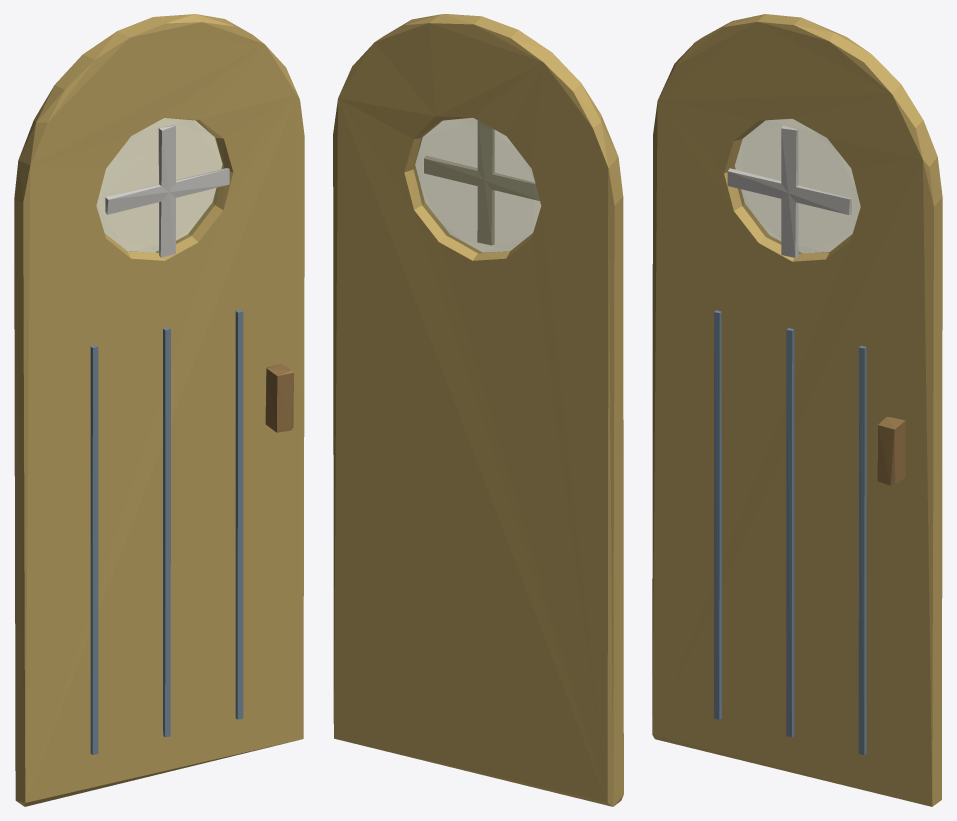
Rendered from SM_Kit_Door_Cottage_LOD2.glb.
3 renders of one model, left to right at view 1: azimuth 30°, elevation 25°; view 2: azimuth 150°, elevation 25°; view 3: azimuth 330°, elevation 25°, orthographic.
Parts seen in each view (by area): view 1: SM_Kit_Door_Cottage_LOD2; view 2: SM_Kit_Door_Cottage_LOD2; view 3: SM_Kit_Door_Cottage_LOD2.
Boxes of the visible parts, left/top/right/bottom form: SM_Kit_Door_Cottage_LOD2: left=14, top=14, right=304, bottom=806; SM_Kit_Door_Cottage_LOD2: left=333, top=14, right=623, bottom=806; SM_Kit_Door_Cottage_LOD2: left=652, top=14, right=942, bottom=806.
Size of the model in its own units: 0.8155 by 2.07 by 0.1261.
